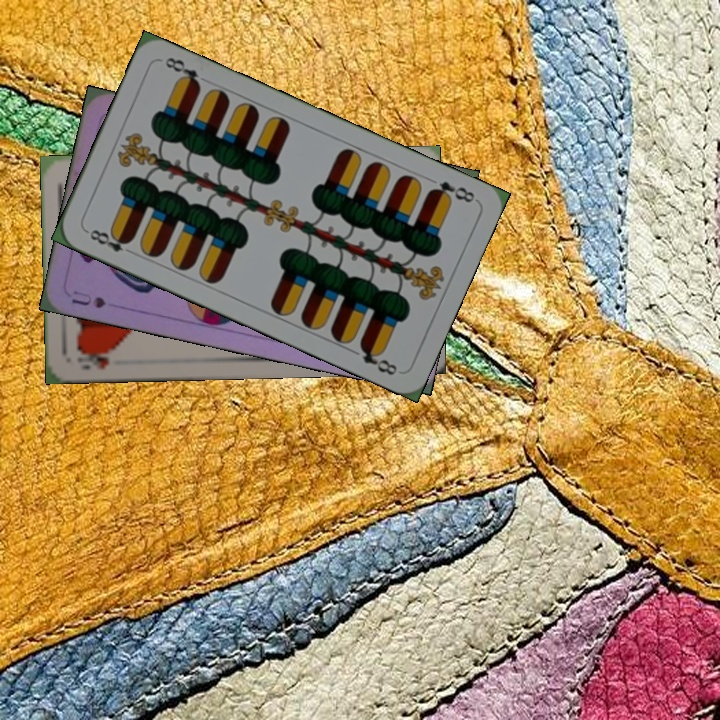E8: (82, 225, 137, 258), (424, 177, 478, 206)
HO: (72, 347, 113, 372)
SU: (67, 286, 109, 311)
